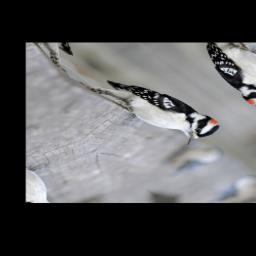Woodpecker: (76, 53, 235, 157)
